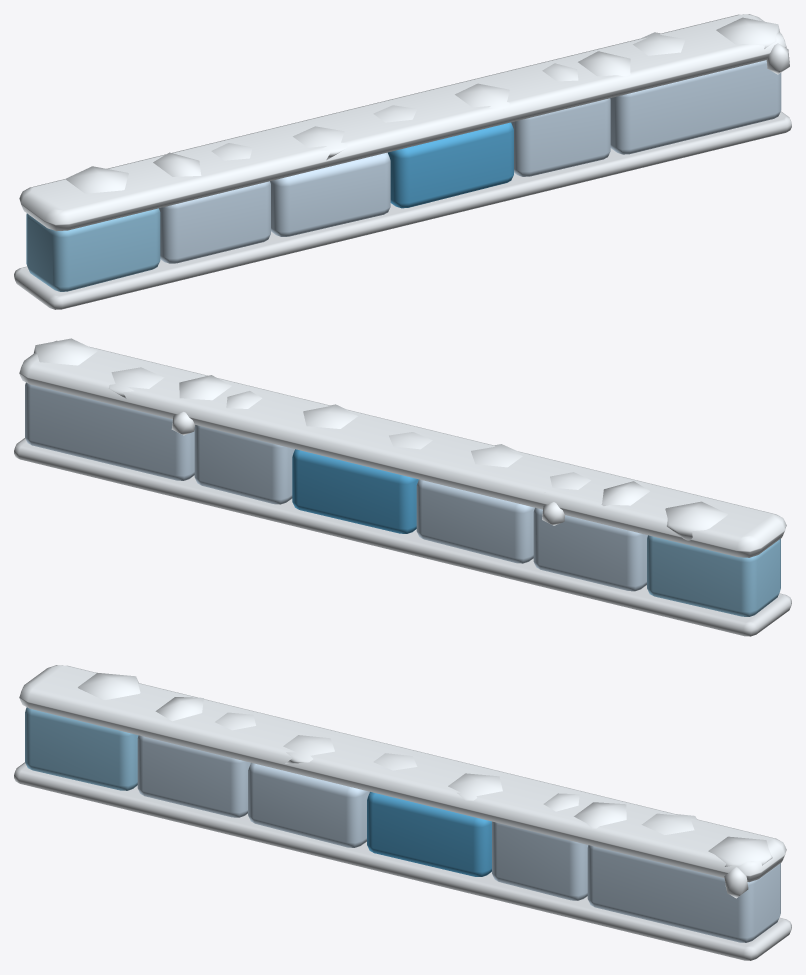
The model's file is PlotWallShort.fbx.
3 renders of one model, top to bottom at view 1: azimuth 30°, elevation 25°; view 2: azimuth 150°, elevation 25°; view 3: azimuth 330°, elevation 25°, orthographic.
Parts seen in each view (by area): view 1: PlotWallShortIce, PlotWallShortSnow, PlotWallShortTrim; view 2: PlotWallShortIce, PlotWallShortSnow, PlotWallShortTrim; view 3: PlotWallShortIce, PlotWallShortSnow, PlotWallShortTrim.
Part boxes in pixels (<box>): PlotWallShortIce: <box>26,60,781,291</box>; PlotWallShortSnow: <box>19,14,789,231</box>; PlotWallShortTrim: <box>14,111,791,309</box>; PlotWallShortIce: <box>25,382,780,616</box>; PlotWallShortSnow: <box>19,338,786,557</box>; PlotWallShortTrim: <box>14,438,791,636</box>; PlotWallShortIce: <box>25,707,780,942</box>; PlotWallShortSnow: <box>19,665,786,898</box>; PlotWallShortTrim: <box>14,762,791,960</box>.
Bounding box in the file's own units: 284 × 37.57 × 35.16.
